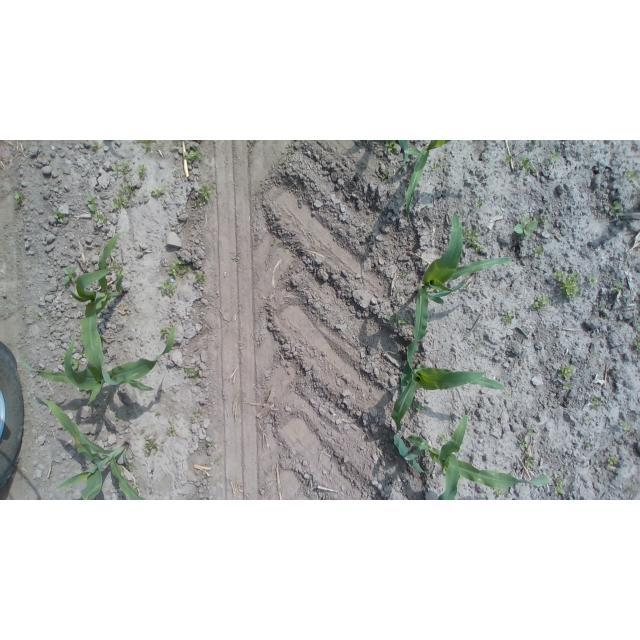Maize: (409, 210, 519, 380), (388, 362, 509, 477), (7, 327, 181, 406), (30, 392, 154, 500), (413, 413, 558, 500), (62, 228, 139, 390), (392, 140, 465, 212)
Weeds: (555, 269, 581, 301), (509, 215, 540, 240), (463, 229, 486, 255), (168, 255, 191, 280), (557, 364, 577, 390), (384, 311, 408, 328), (518, 156, 538, 175), (519, 426, 538, 446), (81, 193, 100, 212), (531, 293, 549, 312), (183, 149, 204, 165), (110, 158, 131, 174), (555, 477, 570, 499), (157, 281, 179, 296), (545, 147, 563, 165), (196, 183, 213, 202), (596, 300, 612, 320), (61, 355, 81, 371), (111, 195, 133, 209), (603, 198, 621, 215), (183, 365, 202, 381), (523, 450, 538, 468), (582, 439, 601, 453), (136, 140, 156, 153), (383, 141, 400, 156), (64, 268, 79, 285), (145, 437, 160, 454), (190, 268, 204, 286), (109, 260, 123, 277), (499, 312, 517, 324), (149, 188, 167, 200), (120, 182, 138, 194), (191, 407, 203, 425), (589, 394, 603, 409), (137, 165, 151, 180), (531, 244, 544, 260), (624, 169, 638, 183), (203, 438, 217, 452), (14, 191, 27, 206), (633, 330, 640, 356), (607, 280, 621, 293), (620, 419, 633, 433), (157, 326, 171, 339), (608, 456, 620, 469), (55, 209, 67, 221), (95, 215, 107, 227), (380, 167, 393, 178), (417, 403, 430, 414), (125, 460, 136, 472), (166, 425, 177, 437), (90, 143, 103, 153), (473, 196, 484, 207), (504, 152, 514, 164), (429, 162, 441, 171), (589, 275, 599, 285), (231, 254, 241, 263), (153, 410, 162, 419), (399, 270, 409, 278), (587, 351, 594, 361), (395, 291, 404, 298), (139, 427, 148, 434), (368, 230, 375, 237)
